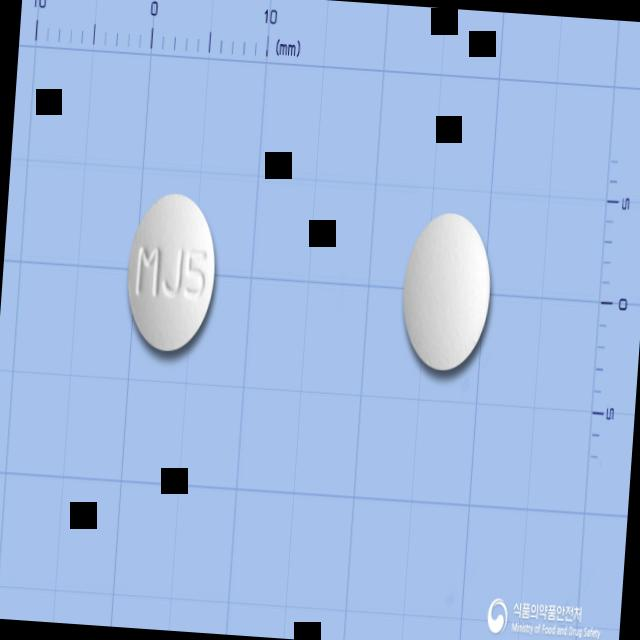Clabio - 500mg: (397, 206, 496, 373), (121, 189, 219, 354)
